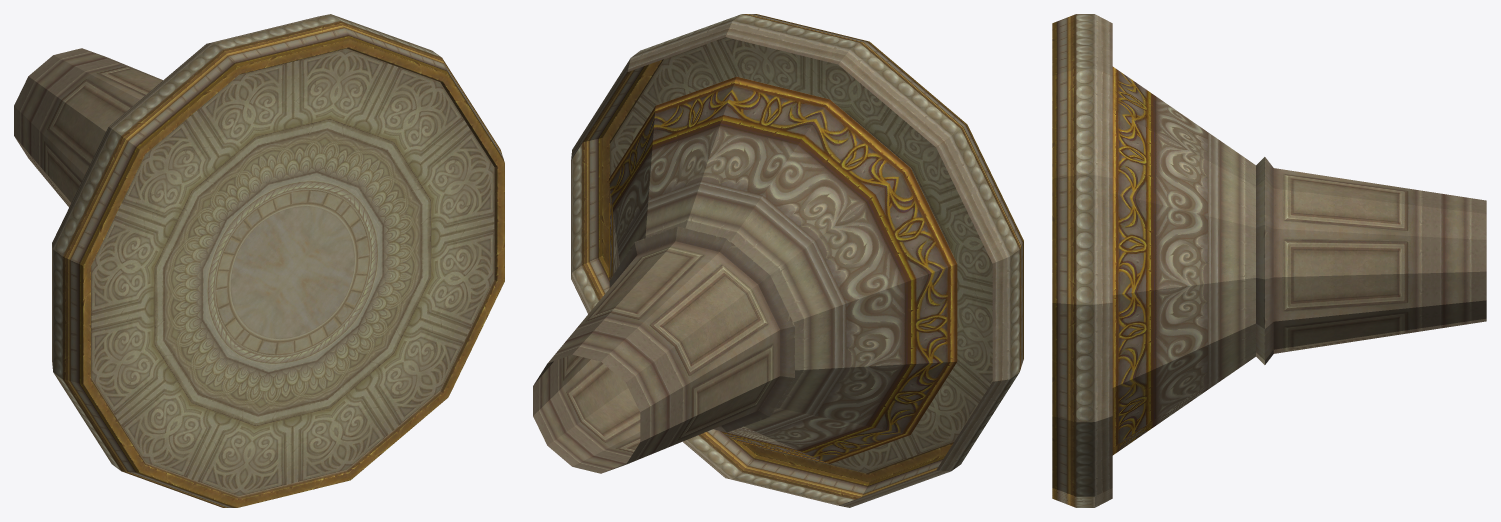
The model's file is huodong_fuben_407_pingtai_03.obj.
3 renders of one model, left to right at view 1: azimuth 30°, elevation 25°; view 2: azimuth 150°, elevation 25°; view 3: azimuth 270°, elevation 25°, orthographic. The views are drawn at different scales.
Parts seen in each view (by area): view 1: huodong_fuben_407_pingtai_03; view 2: huodong_fuben_407_pingtai_03; view 3: huodong_fuben_407_pingtai_03.
Boxes of the visible parts, x1,y1,x2,y2 form: huodong_fuben_407_pingtai_03: (14,14,504,507); huodong_fuben_407_pingtai_03: (533,14,1023,507); huodong_fuben_407_pingtai_03: (1052,14,1486,507).
Size of the model in its own units: 2007 by 2007 by 1799.
Materials: 5 (5 with a texture image).
